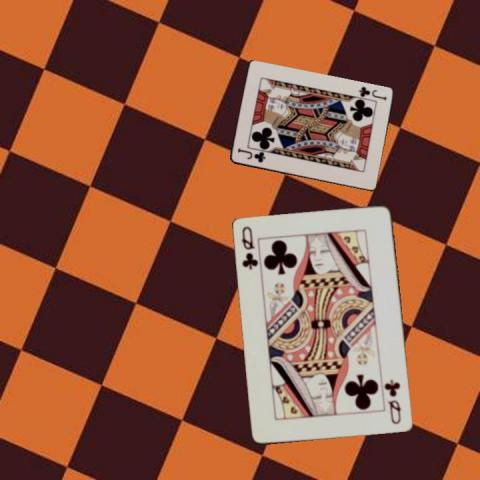Jc: (355, 84, 388, 102), (234, 146, 266, 164)
Qc: (383, 377, 403, 426), (240, 224, 260, 272)
